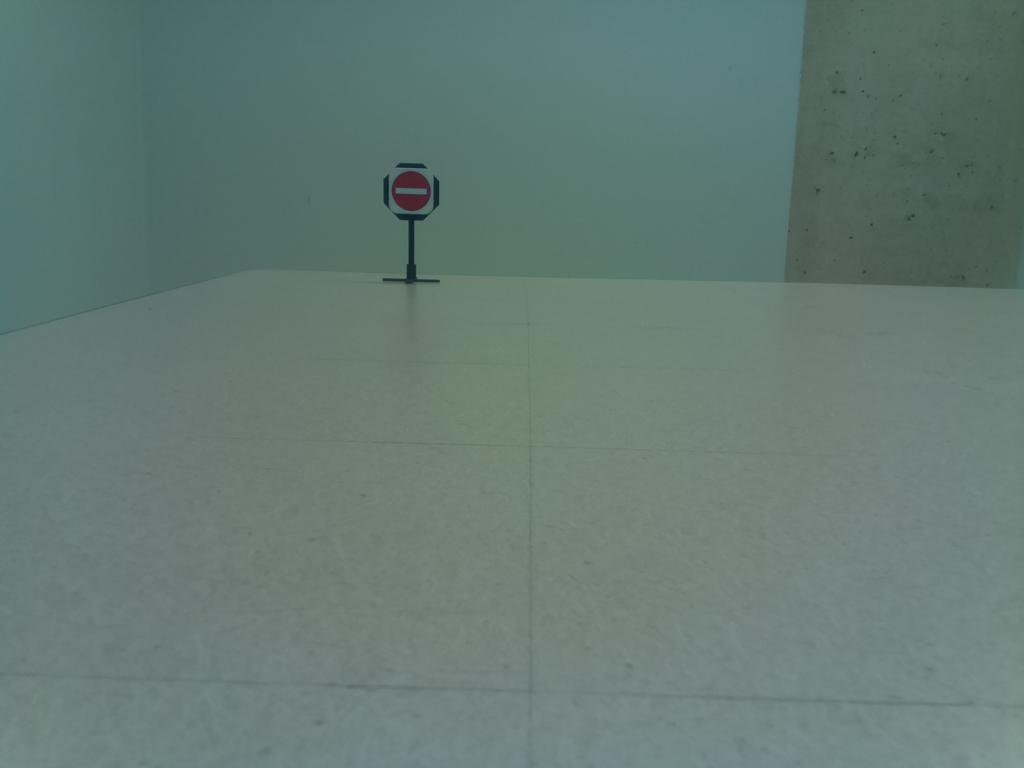sign_noentry: (378, 159, 446, 226)
